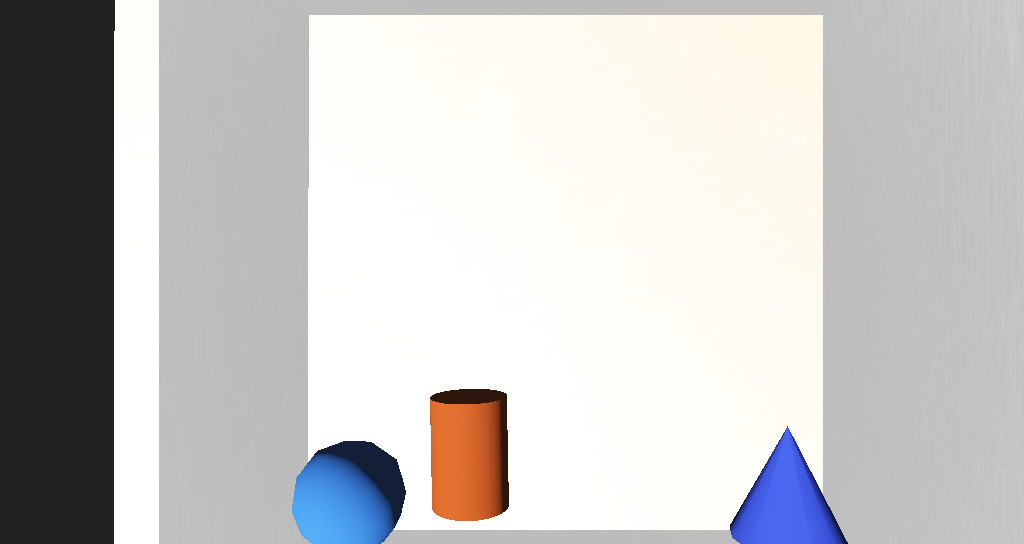cone: (428, 317, 475, 370)
cylinder: (596, 327, 670, 379)
sphere: (354, 334, 414, 382)
